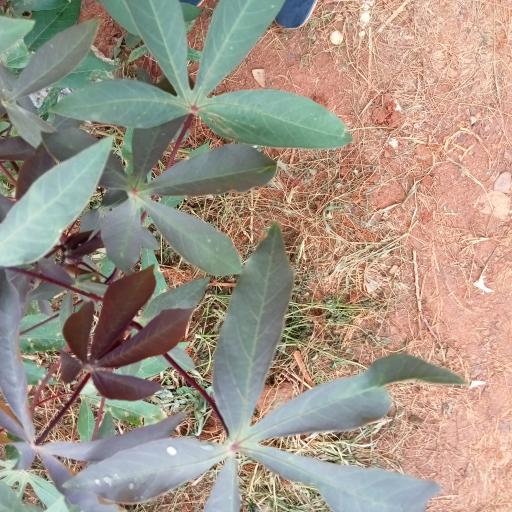Cassava_Healthy: (96, 242, 434, 508), (53, 1, 354, 148), (40, 106, 275, 270), (55, 276, 178, 400)
